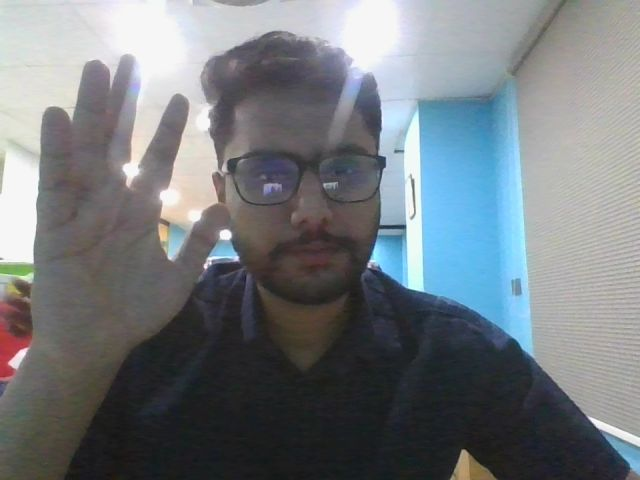hello: (11, 50, 234, 385)
